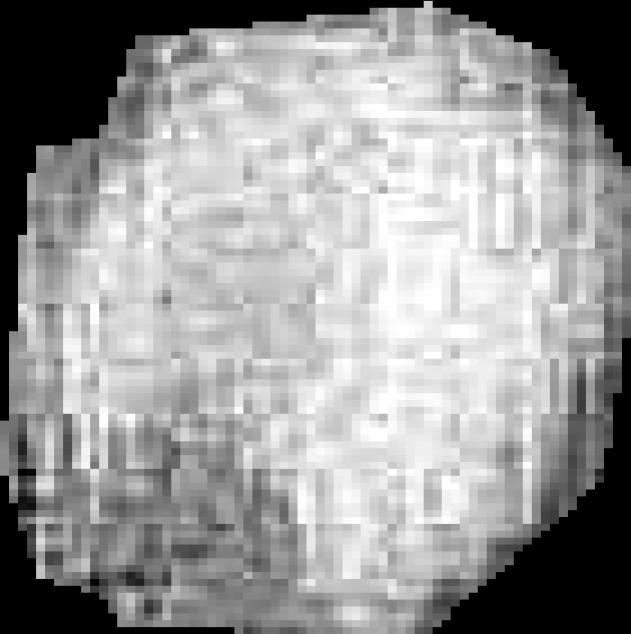tumor_good_chance: (0, 1, 631, 634)
